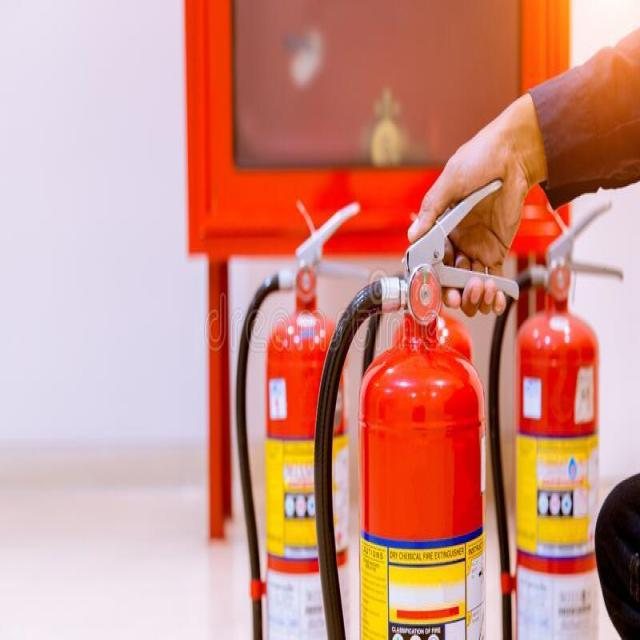fire_extinguisher: (308, 172, 523, 638), (486, 193, 629, 639), (228, 193, 362, 639)
